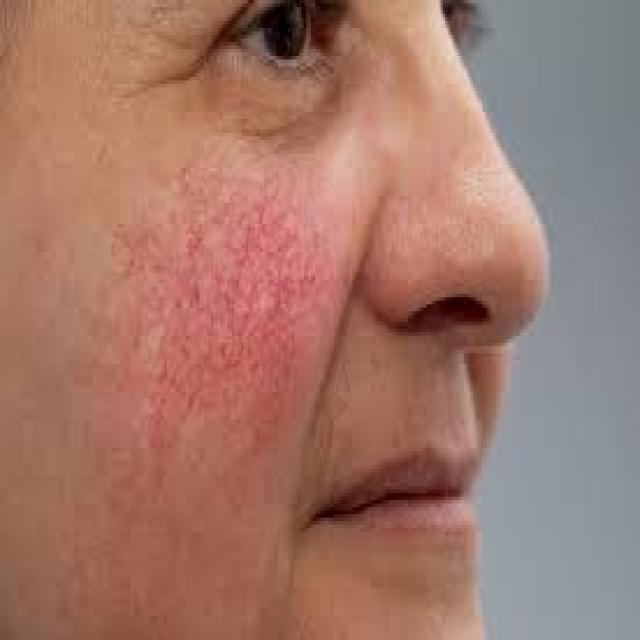Rosacea: (77, 177, 336, 531)
